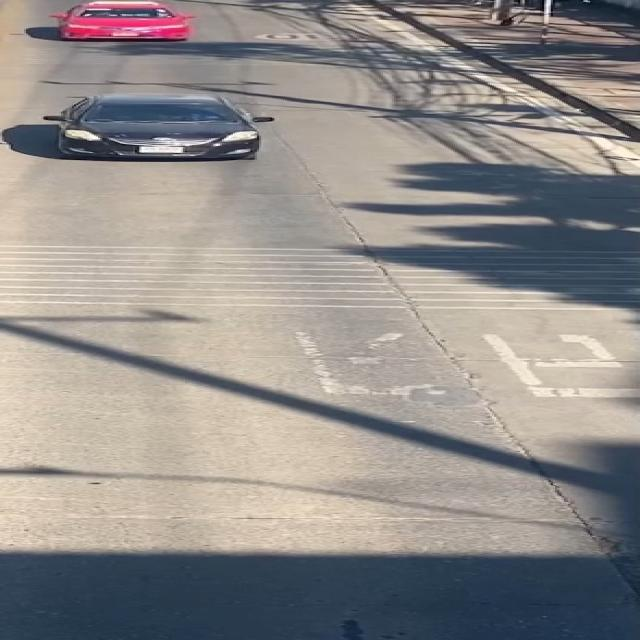car: (18, 84, 296, 163), (30, 0, 232, 49)
